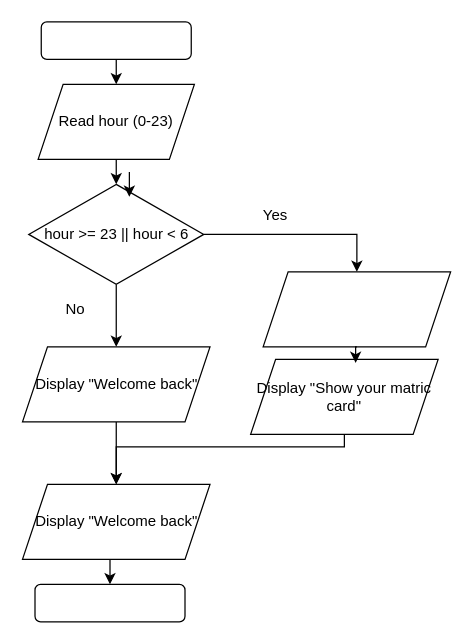
This 473x644 diagram has some shape labels left out. The shapes that lost their labels are listed below. From the top down, each one's centre as x and y in pixels, then its label:
(x=115, y=40): Start
(x=356, y=309): Display "Late entry: sign the log book"
(x=109, y=602): Stop
